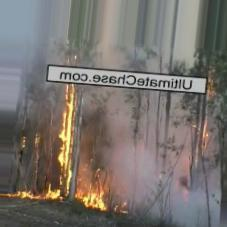fire: (2, 82, 107, 210)
smoke: (85, 44, 227, 227)
